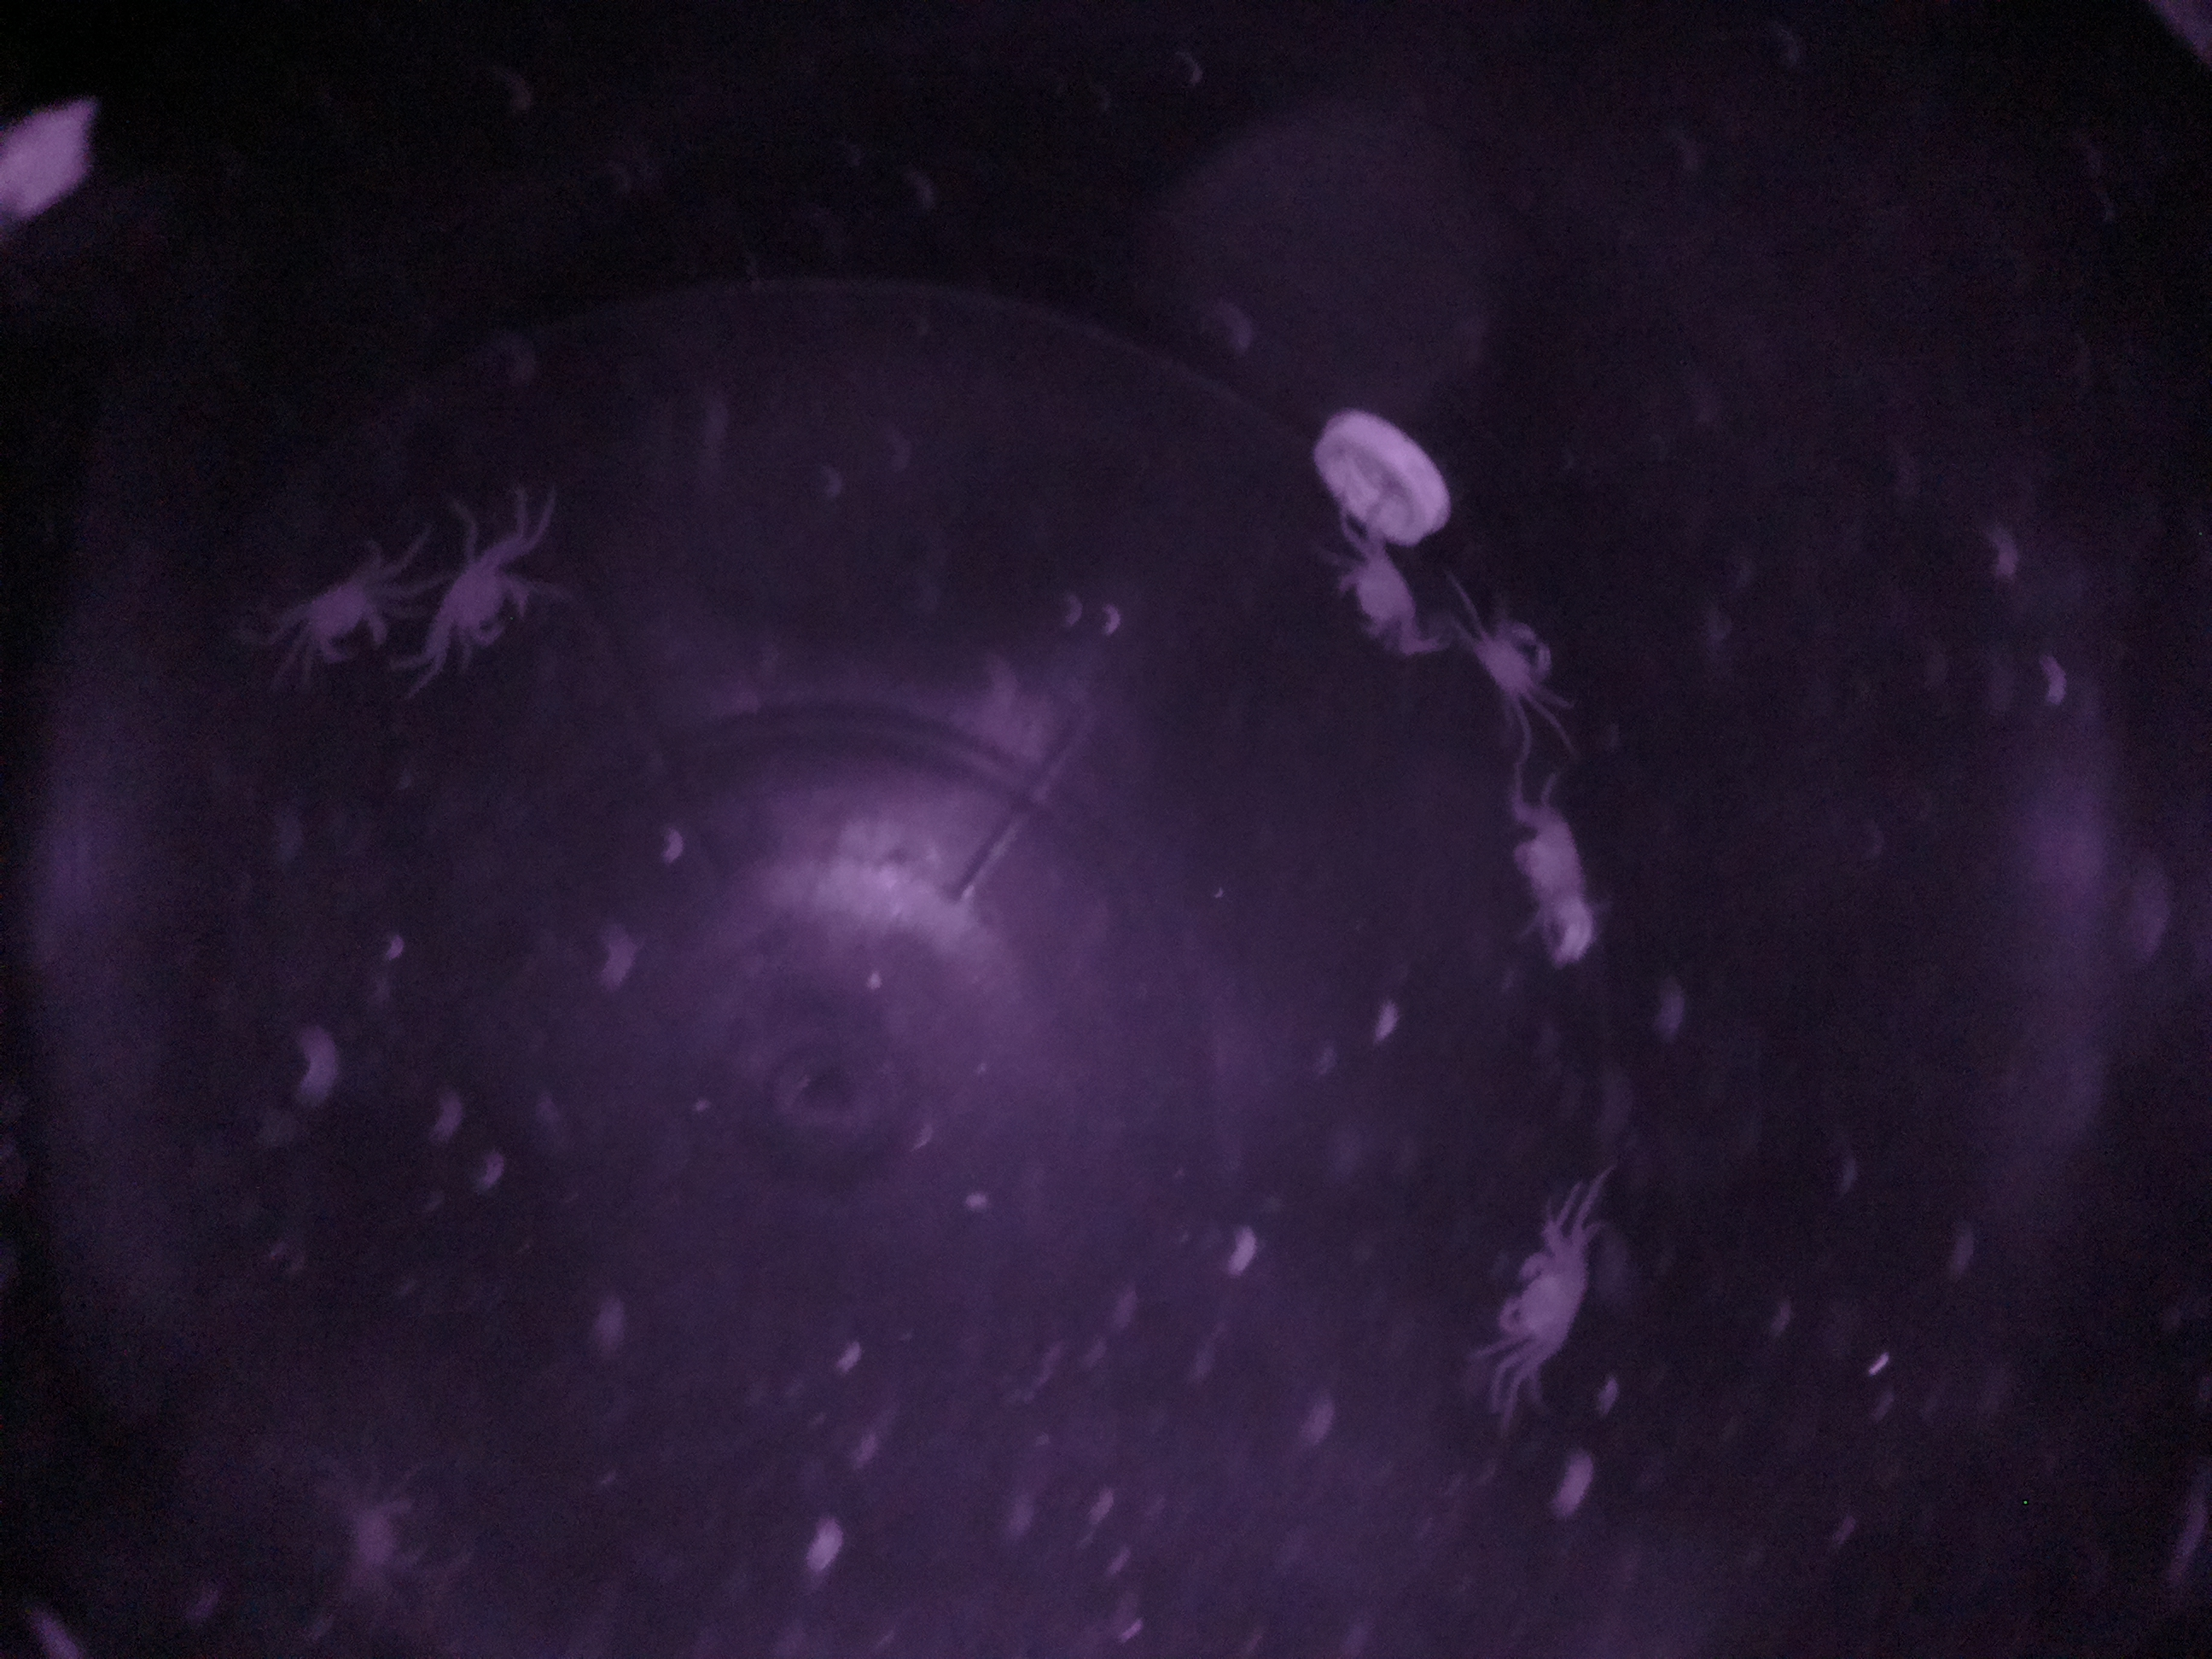Crab: (1472, 1229, 1609, 1382), (423, 532, 545, 669), (1324, 523, 1433, 664), (300, 556, 399, 687), (1460, 613, 1561, 727)
